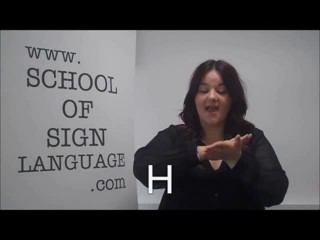H: (194, 129, 259, 165)
